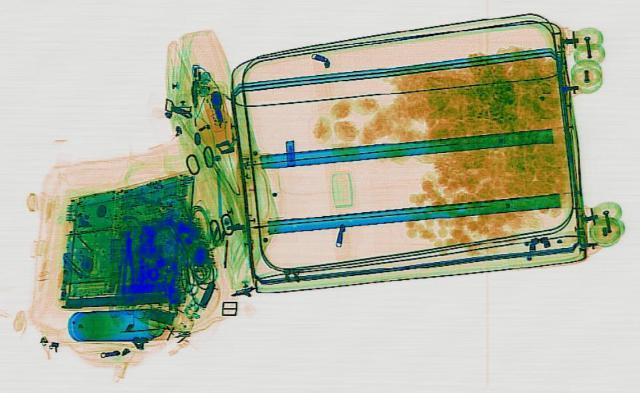Pliers: (119, 236, 137, 290)
